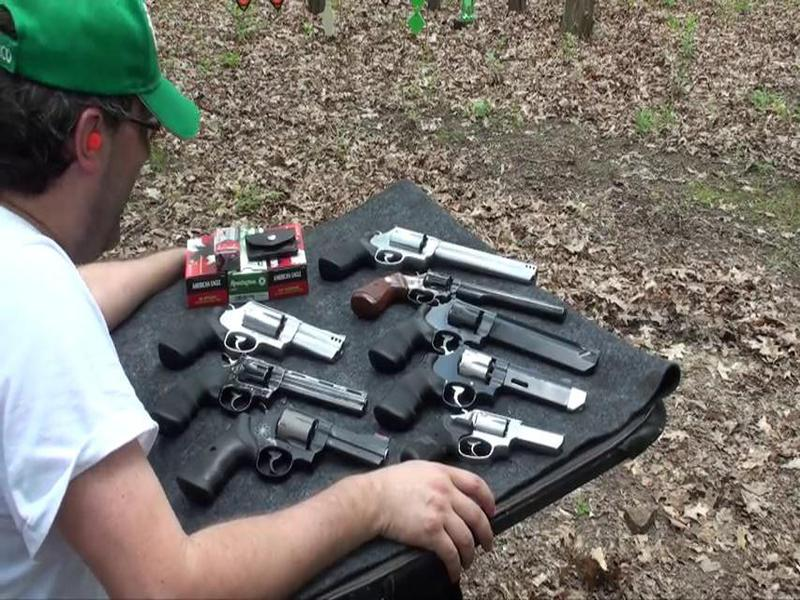Revolver: (369, 293, 596, 387)
